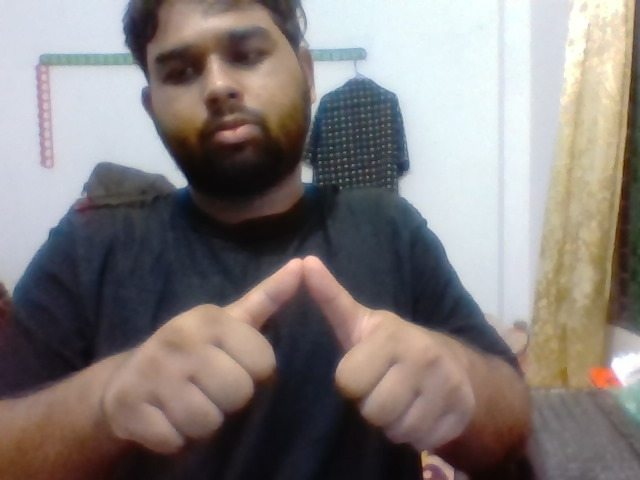A: (83, 249, 478, 465)
